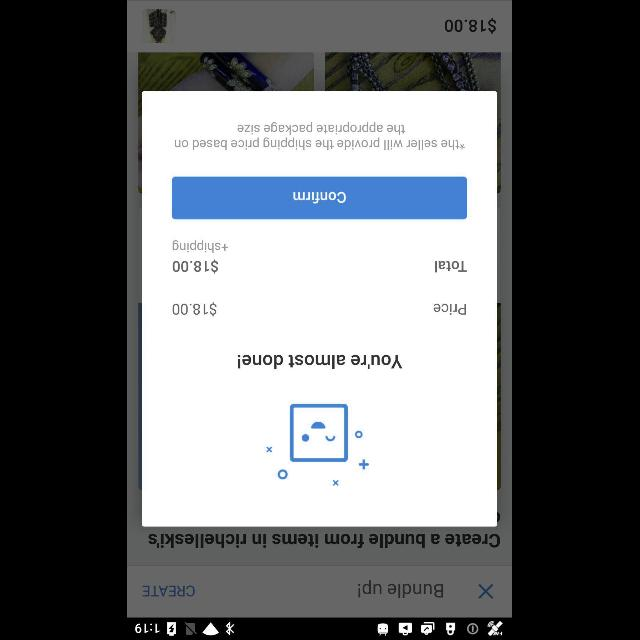icon: (480, 584, 494, 598)
image: (266, 404, 370, 486), (142, 9, 176, 43)
panel: (142, 91, 498, 526)
text: (176, 122, 466, 150), (149, 534, 501, 548), (238, 354, 404, 370), (360, 580, 444, 598), (445, 18, 497, 34), (173, 240, 229, 252), (173, 259, 219, 273), (142, 585, 195, 597), (173, 302, 217, 316), (435, 261, 467, 273), (435, 303, 467, 315)
textbutton: (172, 177, 468, 220)
uppertaskbar: (128, 617, 512, 639)
